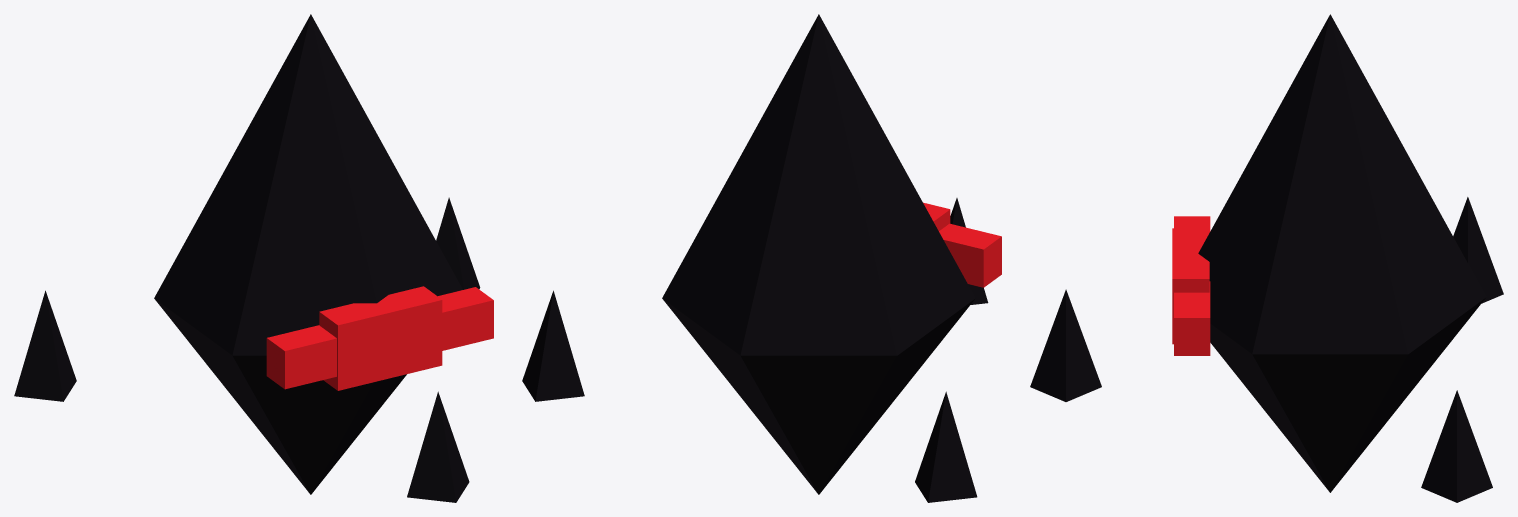
Rendered from TrophyEye.obj.
3 views of the same model, side by side, from view 1: azimuth 30°, elevation 25°; view 2: azimuth 150°, elevation 25°; view 3: azimuth 270°, elevation 25° (orthographic).
Visible parts, largest first — view 1: TrophyEye; view 2: TrophyEye; view 3: TrophyEye.
Boxes of the visible parts, <box> form: TrophyEye: <box>14,14,493,502</box>; TrophyEye: <box>522,14,1001,502</box>; TrophyEye: <box>1030,14,1503,502</box>.
Bounding box in the file's own units: 0.4409 × 0.44 × 0.3944.
